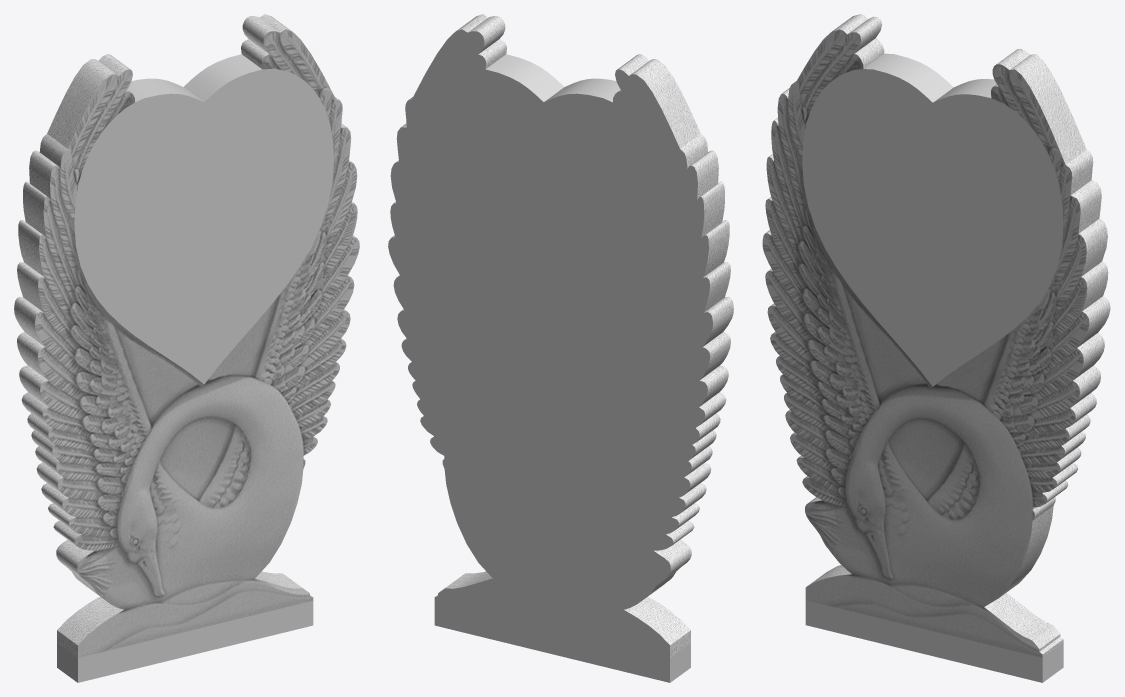
Rendered from cnb53dbd3243_tkf.glb.
3 renders of one model, left to right at view 1: azimuth 30°, elevation 25°; view 2: azimuth 150°, elevation 25°; view 3: azimuth 330°, elevation 25°, orthographic.
Parts seen in each view (by area): view 1: Pam-d01-121_2_notexture, Pam-d01-121; view 2: Pam-d01-121, Pam-d01-121_2_notexture; view 3: Pam-d01-121_2_notexture, Pam-d01-121.
Boxes of the visible parts, x1,y1,x2,y2 form: Pam-d01-121_2_notexture: [14, 14, 359, 657]; Pam-d01-121: [57, 54, 333, 682]; Pam-d01-121: [388, 29, 712, 682]; Pam-d01-121_2_notexture: [391, 14, 733, 657]; Pam-d01-121_2_notexture: [762, 14, 1110, 657]; Pam-d01-121: [802, 53, 1063, 682].
Bounding box in the file's own units: 0.45 × 0.8 × 0.05.
1 material, 1 textured.
